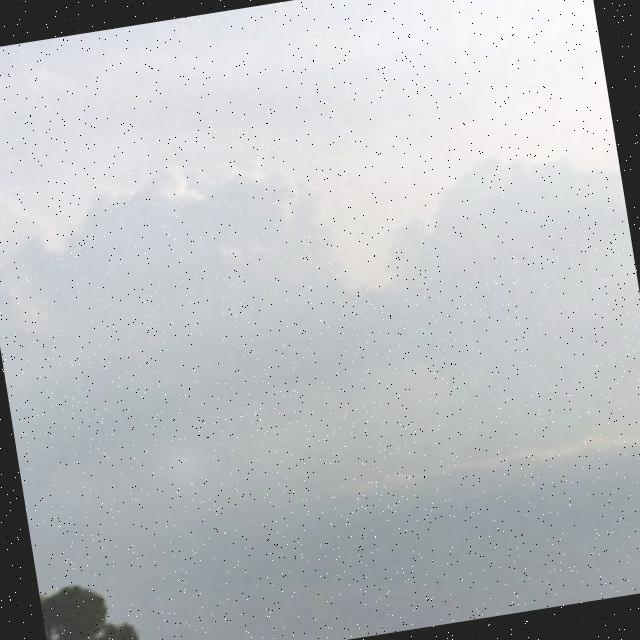Sc: (1, 1, 640, 561)
